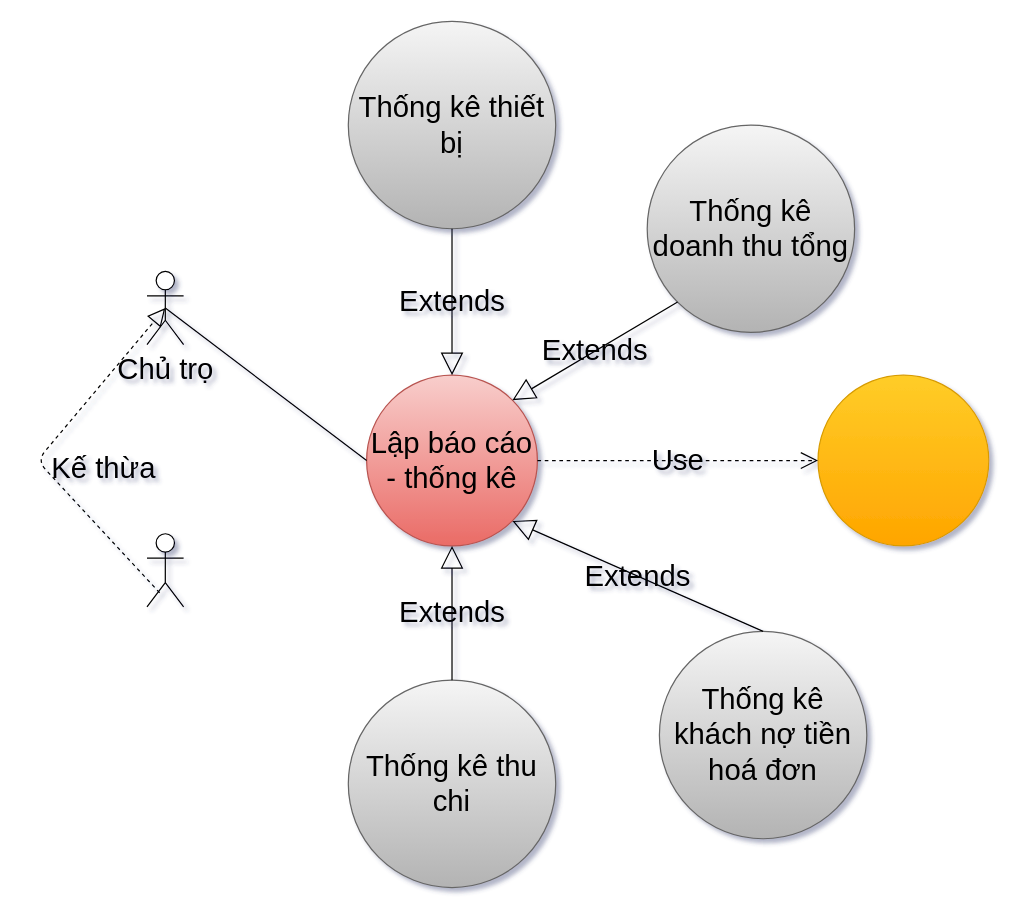
Image size: 1017x916. Some labels were removed from this diagram. Each missing label, with the centre of its shape:
Quản lý: (x=165, y=570)
Đăng nhập: (x=903, y=460)
